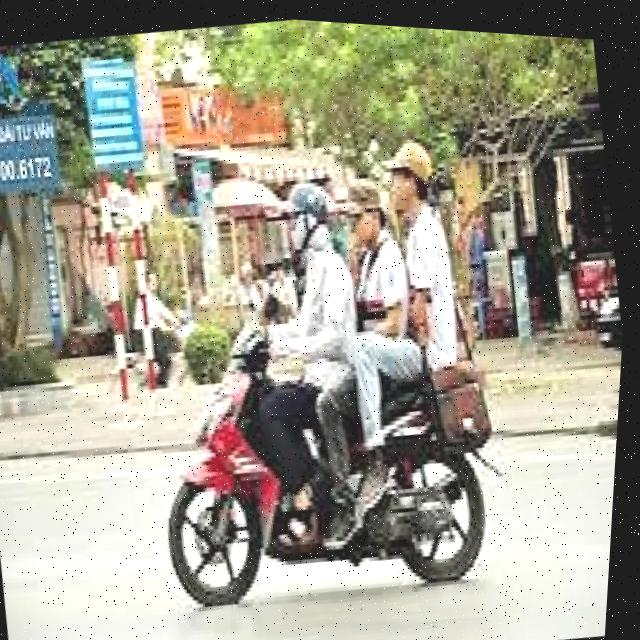motorcycle: (125, 251, 540, 635)
